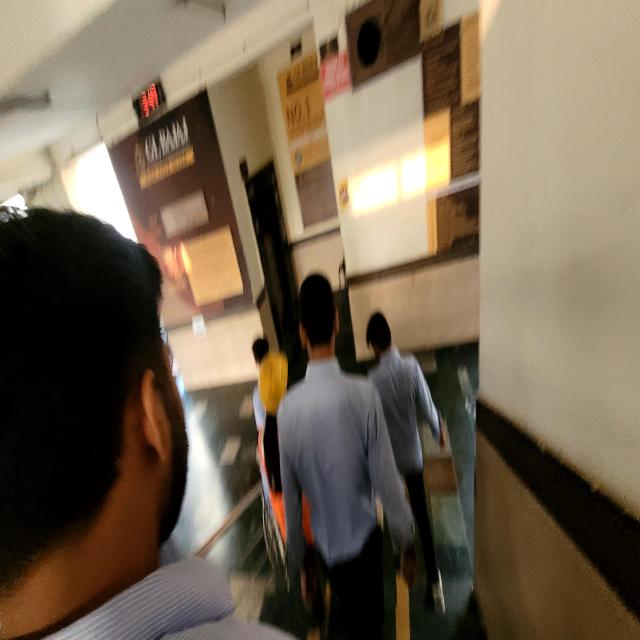safe: (258, 349, 313, 624)
unsafe: (283, 272, 409, 640), (364, 312, 446, 640)
